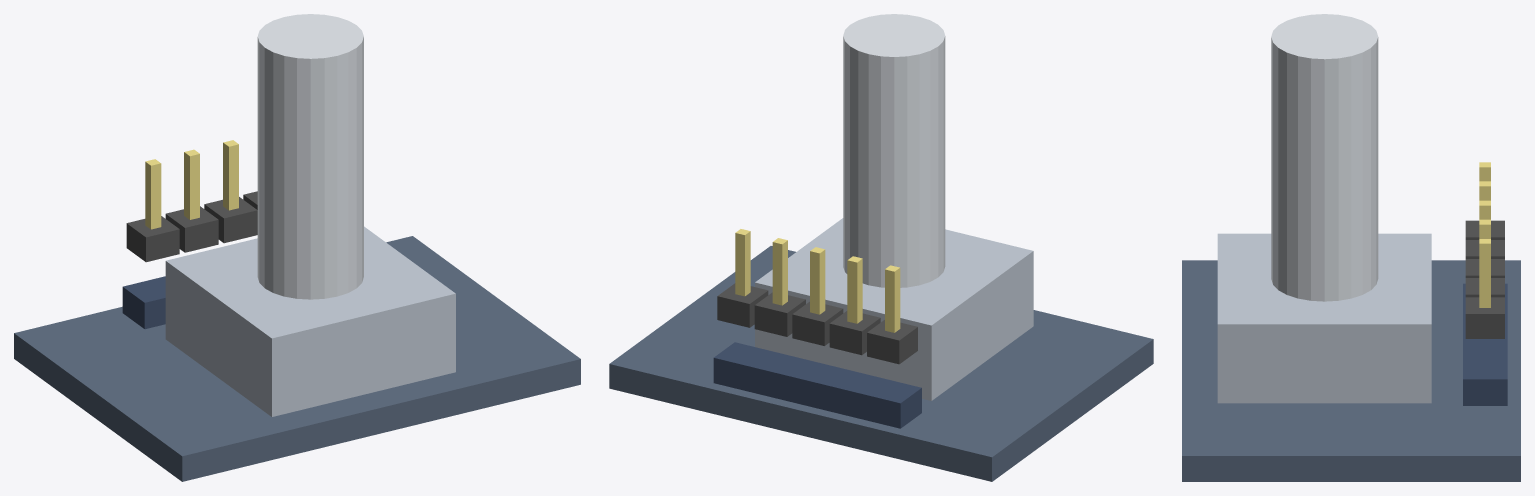
3 views of the same model, side by side, from view 1: azimuth 30°, elevation 25°; view 2: azimuth 150°, elevation 25°; view 3: azimuth 270°, elevation 25° (orthographic). The views are drawn at different scales.
Visible parts, largest first — view 1: rotary-encoder-ky040_mesh; view 2: rotary-encoder-ky040_mesh; view 3: rotary-encoder-ky040_mesh.
Part boxes in pixels (x1,y1,x2,y2): rotary-encoder-ky040_mesh: [14, 14, 580, 481]; rotary-encoder-ky040_mesh: [609, 14, 1153, 481]; rotary-encoder-ky040_mesh: [1182, 14, 1520, 481].
Bounding box in the file's own units: 26 × 21.5 × 19.
